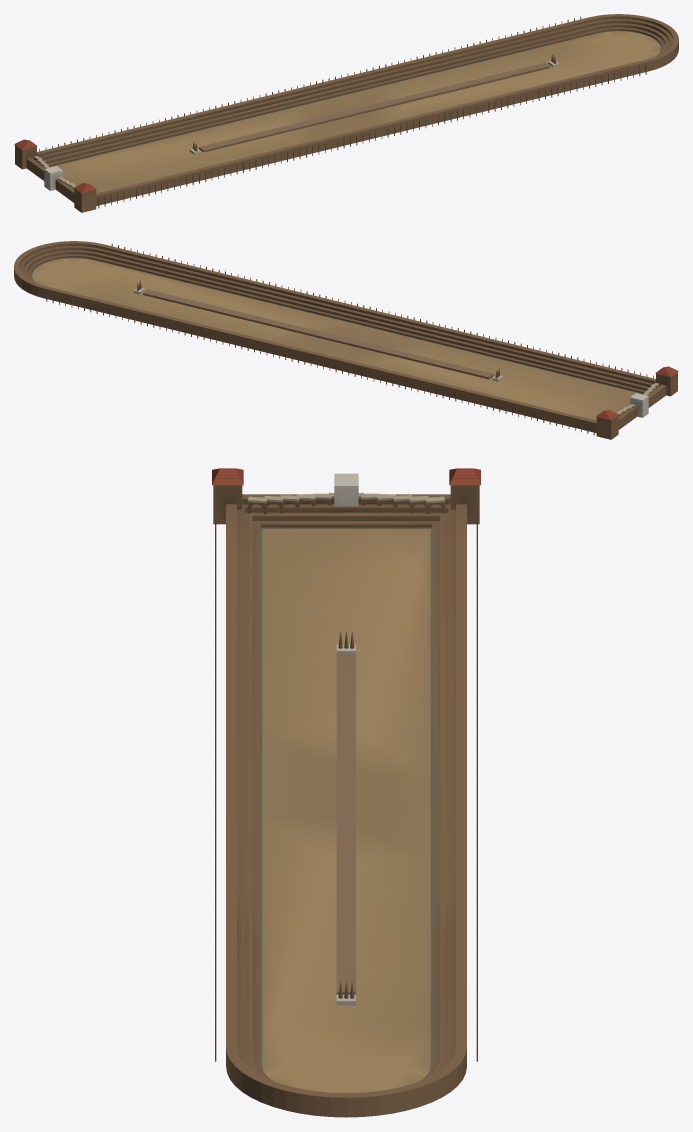
File: circus-maximus-republic.glb
3 renders of one model, top to bottom at view 1: azimuth 30°, elevation 25°; view 2: azimuth 150°, elevation 25°; view 3: azimuth 270°, elevation 25°, orthographic. The views are drawn at different scales.
Parts seen in each view (by area): view 1: p1_spina, p0_arena, p2_gates; view 2: p1_spina, p0_arena, p2_gates; view 3: p0_arena, p1_spina, p2_gates.
Boxes of the visible parts, x1,y1,x2,y2 form: p1_spina: [26, 14, 678, 208]; p0_arena: [49, 30, 661, 193]; p2_gates: [14, 139, 96, 212]; p1_spina: [14, 241, 666, 435]; p0_arena: [31, 257, 643, 420]; p2_gates: [596, 366, 678, 439]; p0_arena: [260, 527, 432, 1092]; p1_spina: [215, 494, 477, 1117]; p2_gates: [212, 468, 480, 524].
Size of the model in its own units: 595 by 22 by 111.
